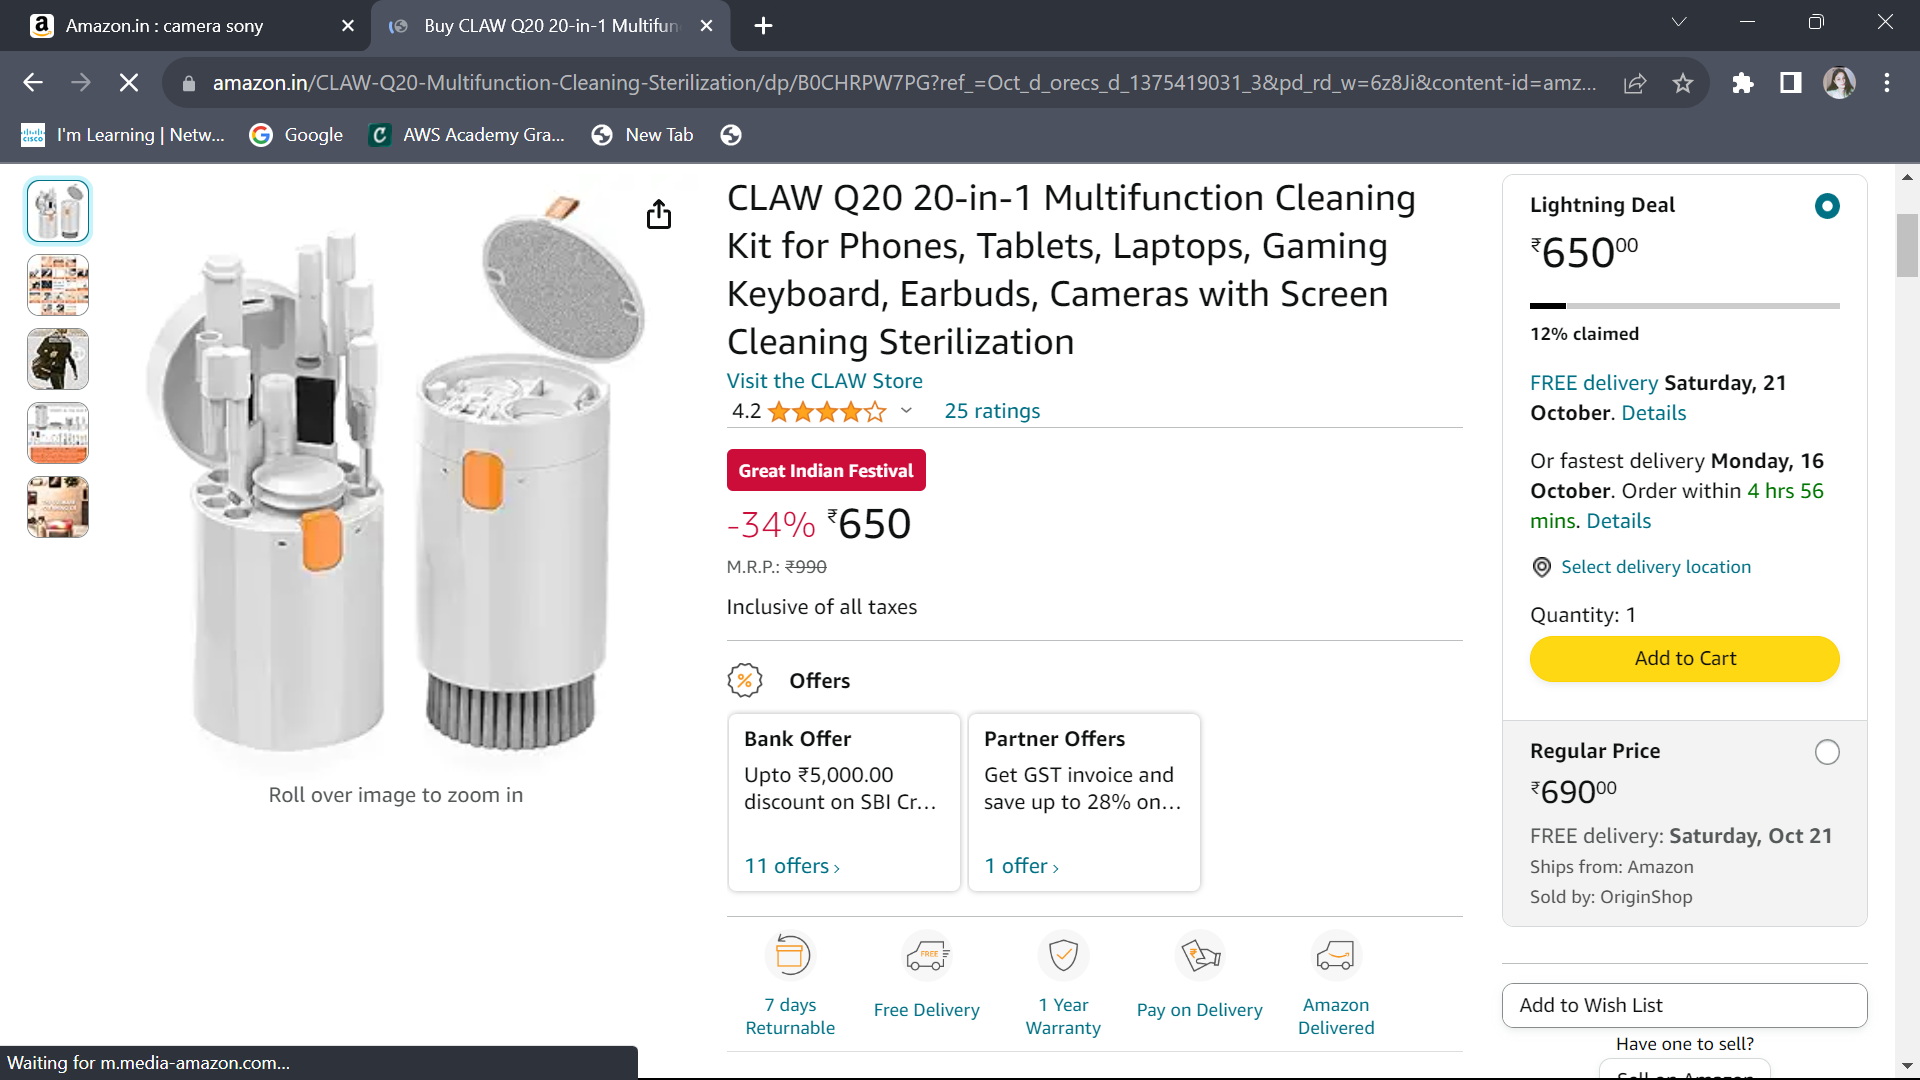Image: (132, 179, 418, 777), (425, 185, 633, 770)
Paragraph: (699, 177, 1464, 364), (1511, 729, 1863, 938), (971, 699, 1207, 926), (699, 729, 968, 919), (1520, 404, 1849, 555), (702, 425, 997, 591), (1516, 585, 1840, 708), (1523, 185, 1825, 310), (1493, 968, 1875, 1033), (636, 985, 848, 1051), (720, 657, 916, 723), (872, 982, 994, 1069), (1528, 364, 1792, 400), (1290, 985, 1400, 1069), (1502, 298, 1675, 347), (1009, 989, 1117, 1063), (1129, 997, 1263, 1039), (708, 597, 971, 618), (1164, 798, 1236, 800)
